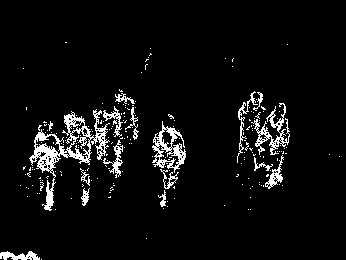person: (149, 112, 190, 210), (58, 110, 93, 207), (254, 100, 291, 190), (29, 118, 60, 212), (237, 88, 266, 176), (91, 104, 124, 181), (111, 86, 139, 142)
